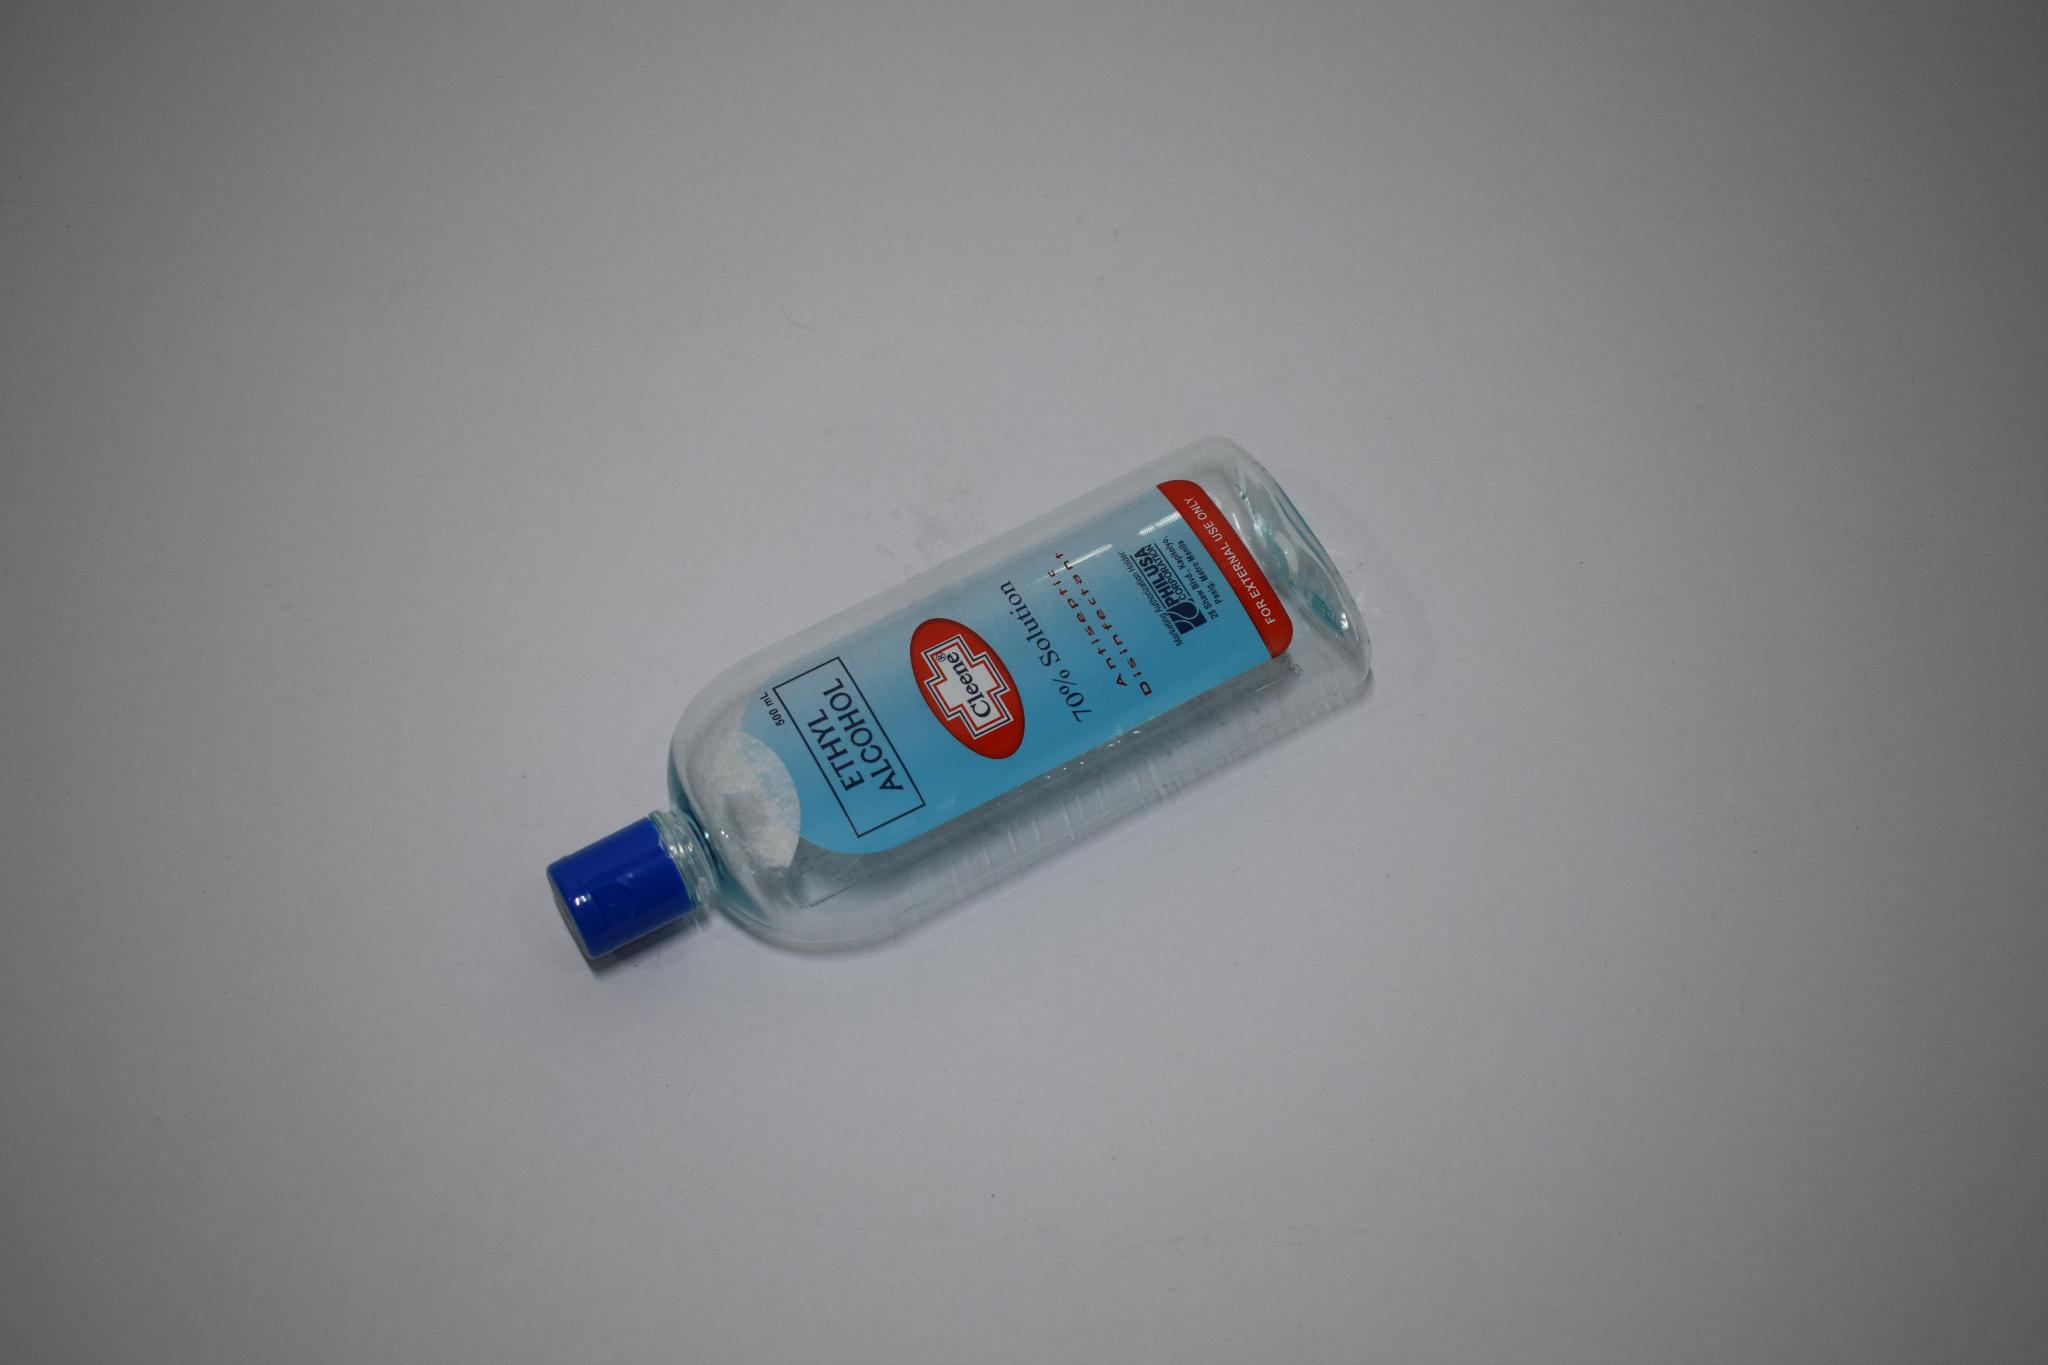bottle: (521, 457, 1404, 987)
